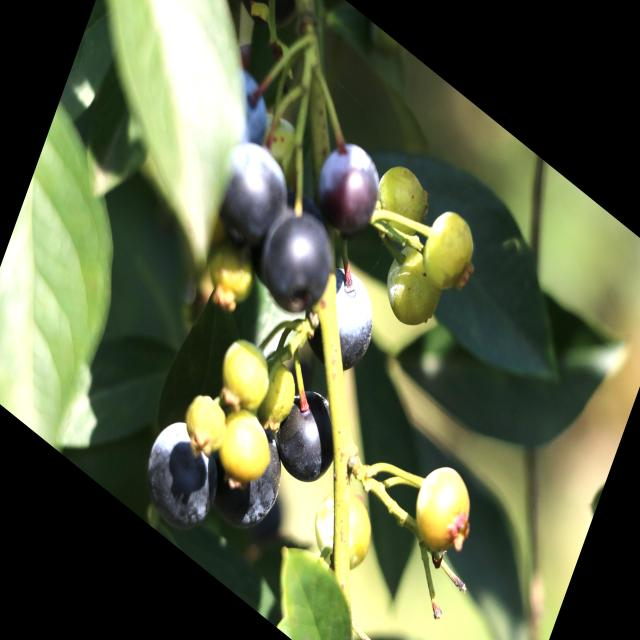blueberry: (133, 398, 238, 549), (205, 123, 304, 269), (292, 249, 387, 392), (255, 193, 348, 333), (208, 408, 297, 552), (260, 373, 352, 503), (305, 122, 393, 250)
blueberry-unripe: (303, 474, 382, 588), (377, 232, 451, 344), (408, 453, 480, 563), (414, 198, 483, 304), (365, 150, 435, 254), (213, 396, 281, 496), (214, 329, 278, 423), (204, 237, 261, 314), (180, 387, 235, 466)
